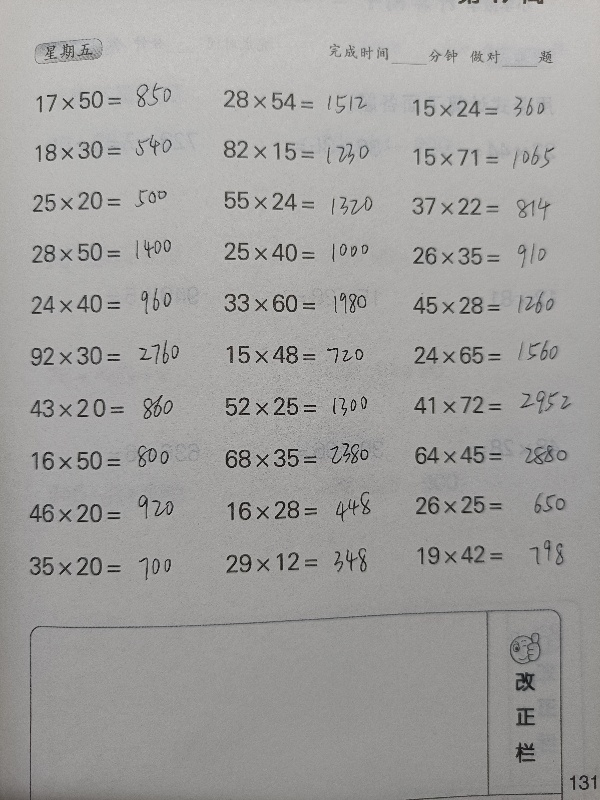equation: (216, 436, 396, 474), (214, 134, 394, 170), (21, 549, 201, 584), (217, 544, 397, 579), (219, 492, 399, 527), (23, 443, 203, 478), (21, 390, 201, 425), (216, 388, 396, 423), (22, 338, 202, 373), (23, 286, 203, 321), (408, 538, 588, 572), (21, 496, 201, 530), (407, 488, 587, 522), (219, 338, 399, 372), (216, 286, 396, 320), (404, 239, 584, 273), (215, 235, 395, 269), (23, 235, 203, 269), (24, 184, 204, 218), (26, 133, 206, 167), (29, 83, 209, 117), (215, 83, 395, 117), (405, 438, 585, 471), (405, 388, 585, 421), (406, 339, 586, 372), (405, 288, 585, 321), (404, 190, 584, 223), (215, 184, 395, 217), (406, 141, 586, 174), (404, 92, 584, 125)
